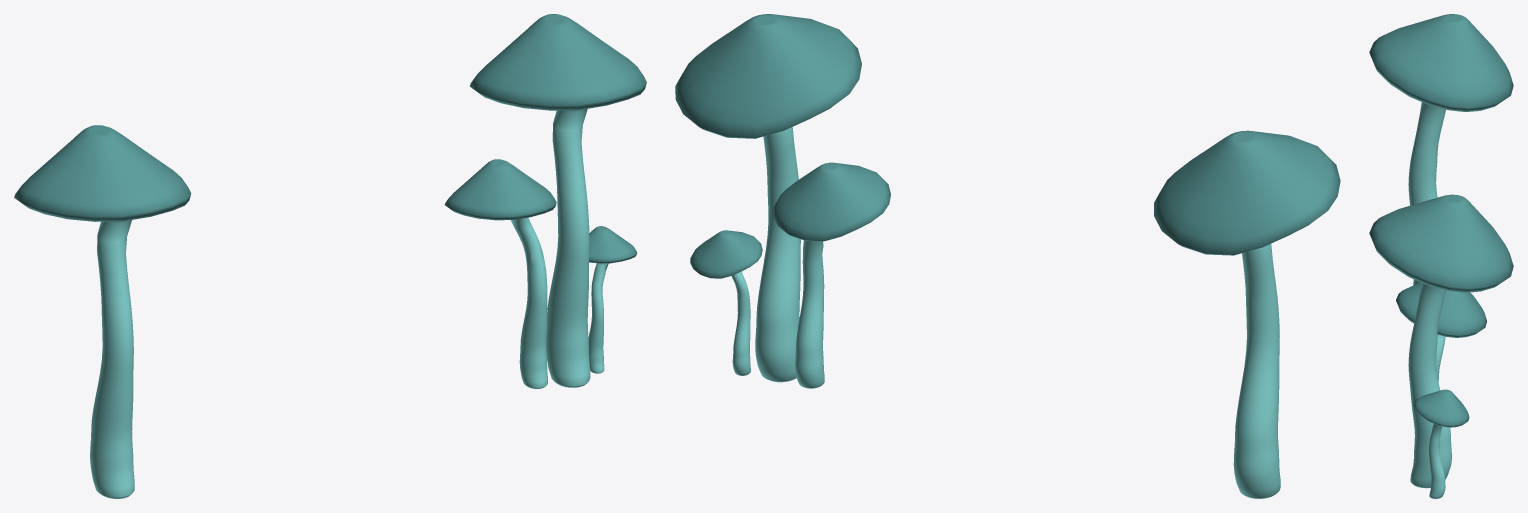
Rendered from hongo.fbx.
3 views of the same model, side by side, from view 1: azimuth 30°, elevation 25°; view 2: azimuth 150°, elevation 25°; view 3: azimuth 270°, elevation 25° (orthographic). The views are drawn at different scales.
Visible parts, largest first — view 1: pasted__pCylinder1 (×2), pCylinder1, pasted__pCylinder2; view 2: pasted__pCylinder1 (×2), pCylinder1, pasted__pCylinder2; view 3: pasted__pCylinder1 (×2), pCylinder1, pasted__pCylinder2.
Part boxes in pixels (x1,y1,x2,y2): pasted__pCylinder1 (×2): (14, 125, 556, 498); pCylinder1: (469, 14, 646, 387); pasted__pCylinder2: (588, 226, 637, 373); pasted__pCylinder1 (×2): (773, 130, 1340, 498); pCylinder1: (675, 14, 861, 382); pasted__pCylinder2: (690, 230, 762, 375); pasted__pCylinder1 (×2): (1369, 14, 1513, 381); pCylinder1: (1369, 194, 1513, 488); pasted__pCylinder2: (1413, 389, 1469, 498).
Bounding box in the file's own units: 7.3 × 3.99 × 1.83.
